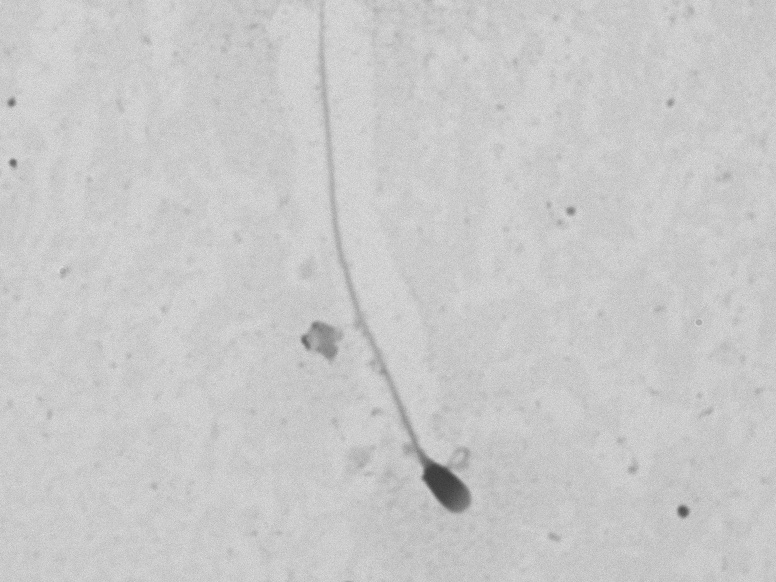Abnormal: (259, 12, 545, 553)
